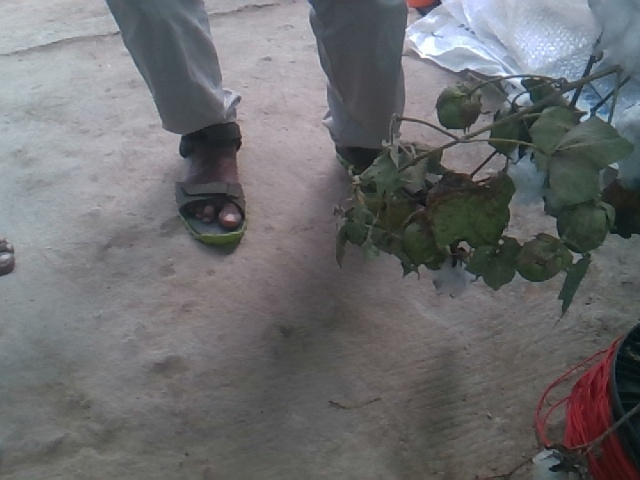cotton: (591, 1, 639, 74)
